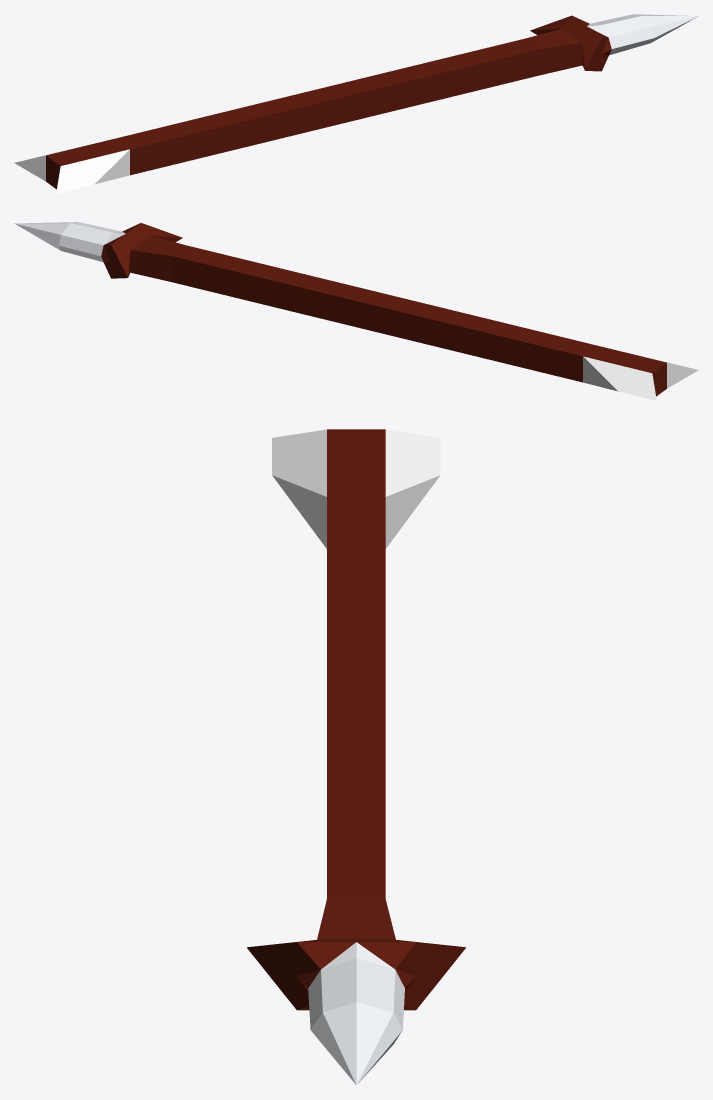
Rendered from woodsman_projectile.glb.
3 views of the same model, one above another, from view 1: azimuth 30°, elevation 25°; view 2: azimuth 150°, elevation 25°; view 3: azimuth 270°, elevation 25° (orthographic). The views are drawn at different scales.
Visible parts, largest first — view 1: woodsman_projectile; view 2: woodsman_projectile; view 3: woodsman_projectile.
Boxes of the visible parts, x1=… form: woodsman_projectile: x1=14, y1=14, x2=698, y2=193; woodsman_projectile: x1=14, y1=222, x2=698, y2=400; woodsman_projectile: x1=247, y1=429, x2=465, y2=1085.
Bounding box in the file's own units: 1.87 × 0.0916 × 0.2681.
Materials: 1 (1 with a texture image).
